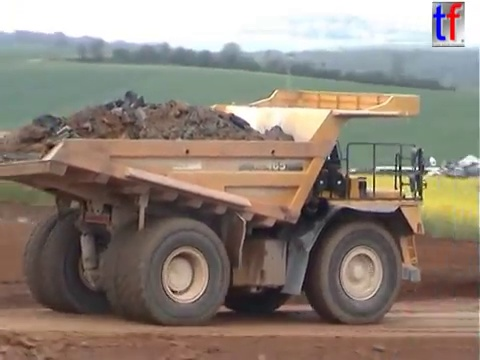truck: (1, 85, 439, 328)
